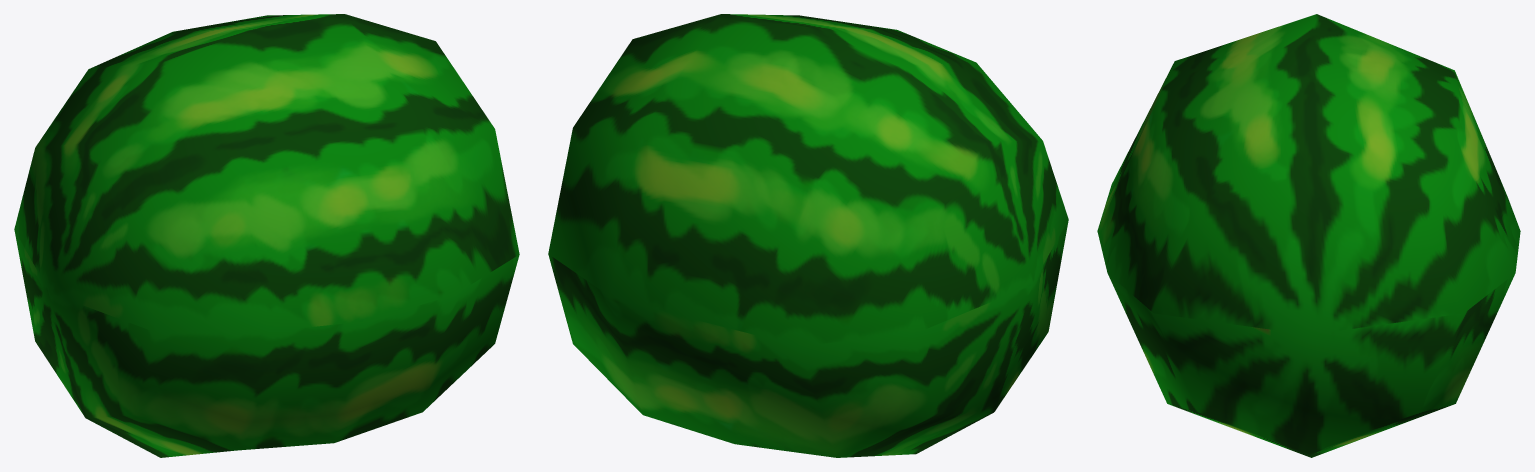
Rendered from SM_PROP_food_watermelon_01.FBX.
3 renders of one model, left to right at view 1: azimuth 30°, elevation 25°; view 2: azimuth 150°, elevation 25°; view 3: azimuth 270°, elevation 25°, orthographic. The views are drawn at different scales.
Visible parts, largest first — view 1: SM_PROP_food_watermelon_01; view 2: SM_PROP_food_watermelon_01; view 3: SM_PROP_food_watermelon_01.
Boxes of the visible parts, box(x1,y1,x2,y2) form: SM_PROP_food_watermelon_01: box(14, 14, 519, 457); SM_PROP_food_watermelon_01: box(548, 14, 1068, 457); SM_PROP_food_watermelon_01: box(1097, 14, 1520, 457).
Bounding box in the file's own units: 50.55 × 45.61 × 45.61.
